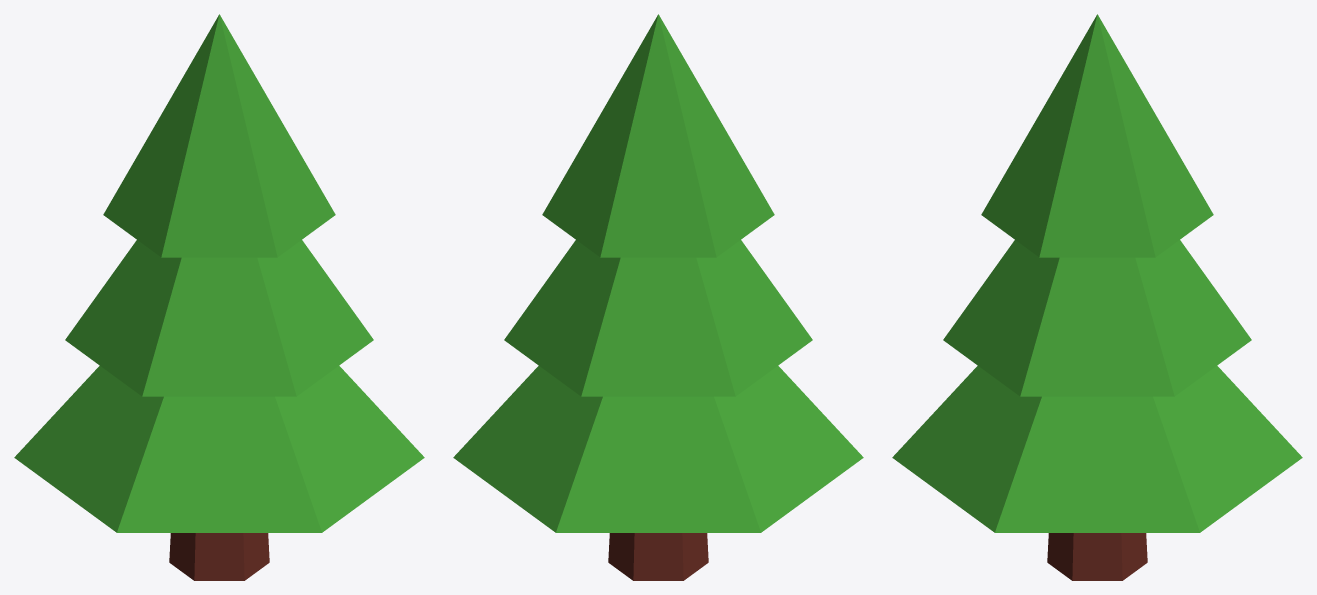
File: Pine1.fbx
The picture shows the model from 3 angles, left to right: view 1: azimuth 30°, elevation 25°; view 2: azimuth 150°, elevation 25°; view 3: azimuth 270°, elevation 25°; orthographic projection.
Parts seen in each view (by area): view 1: Pine1; view 2: Pine1; view 3: Pine1.
Boxes of the visible parts, x1,y1,x2,y2 form: Pine1: (14,14,424,580); Pine1: (453,14,863,580); Pine1: (892,14,1302,580).
Bounding box in the file's own units: 802 × 1365 × 926.
